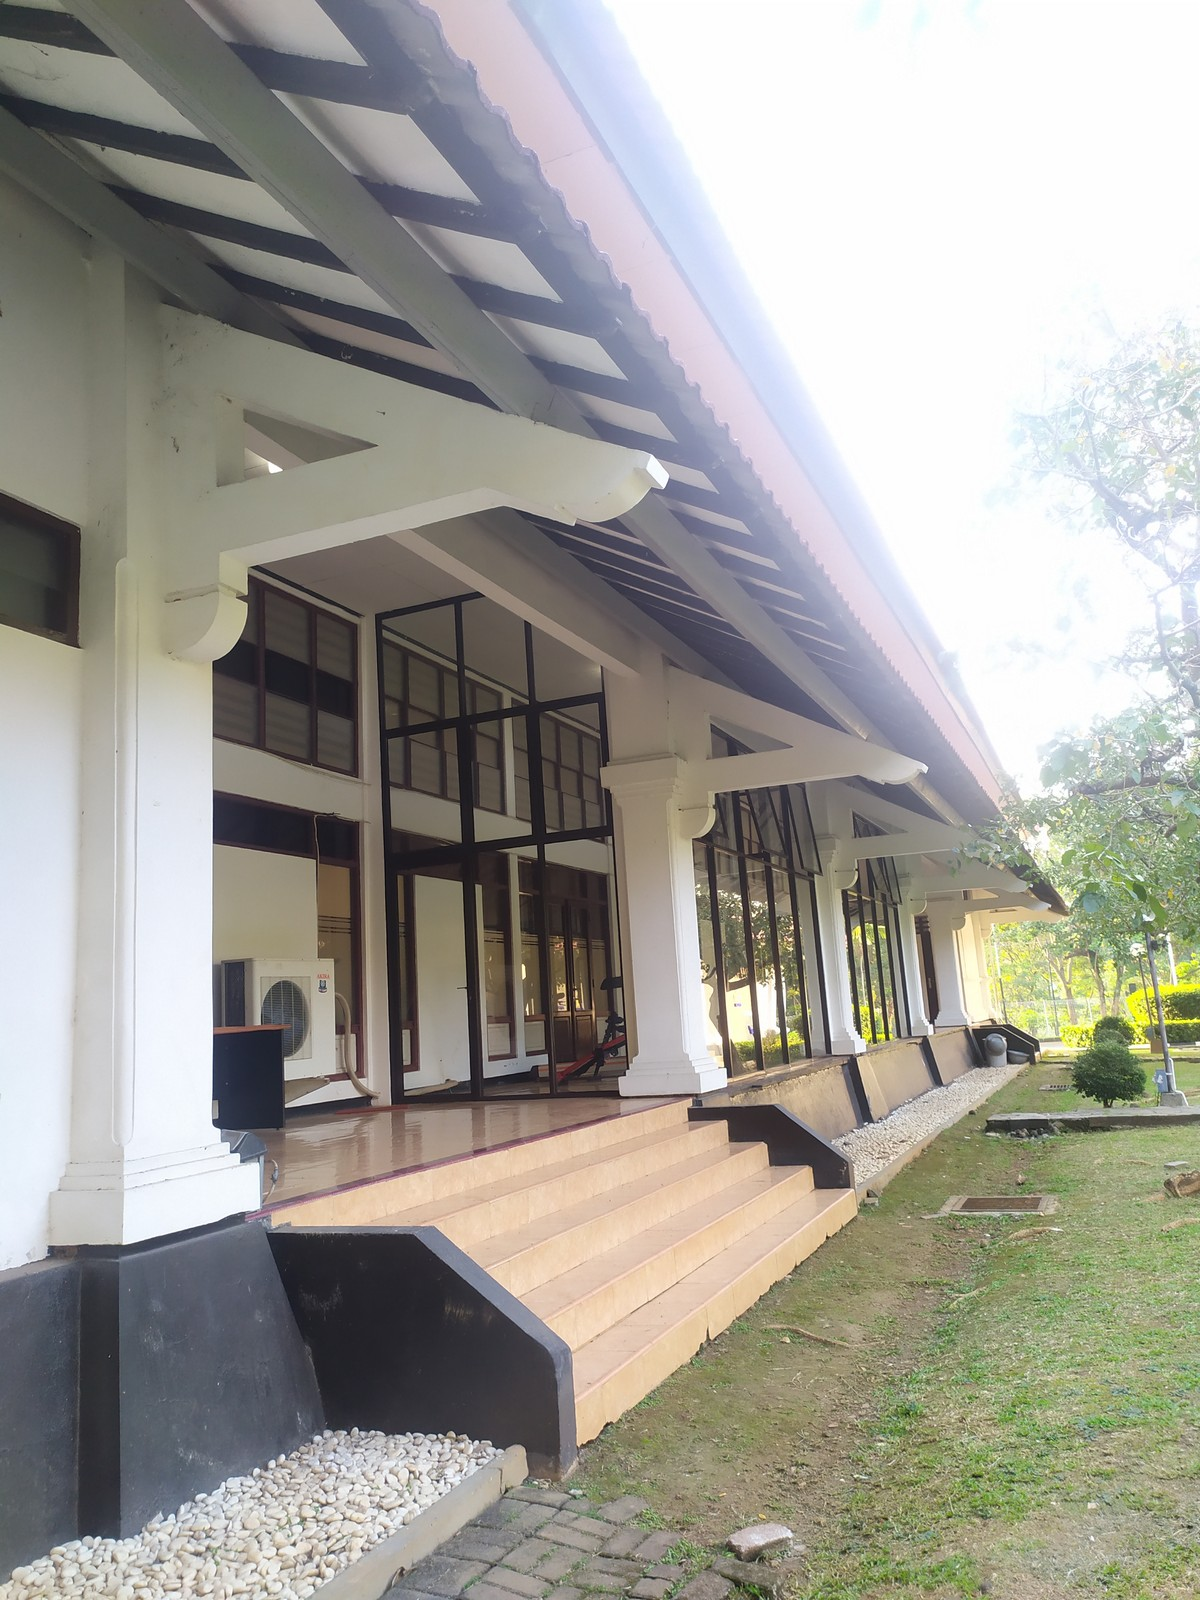concrete beam: (198, 446, 489, 574), (698, 745, 836, 797)
concrete column: (604, 717, 717, 1072)
